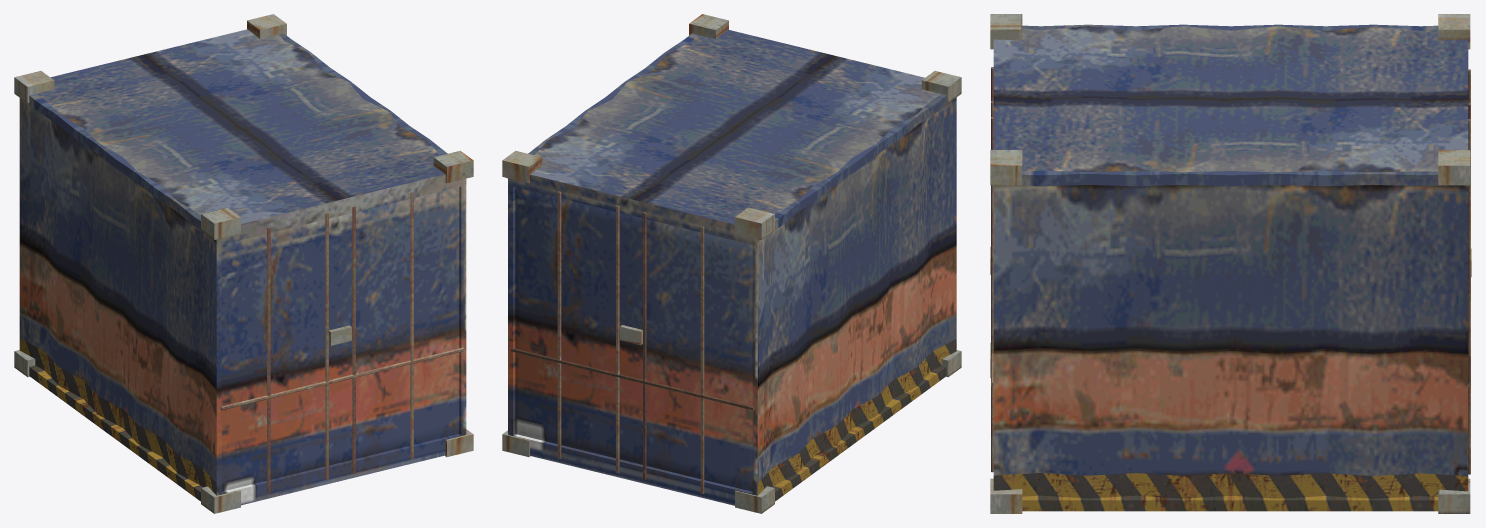
The model's file is ContainerShort2_SM.fbx.
3 renders of one model, left to right at view 1: azimuth 30°, elevation 25°; view 2: azimuth 150°, elevation 25°; view 3: azimuth 270°, elevation 25°, orthographic. The views are drawn at different scales.
Visible parts, largest first — view 1: Box005; view 2: Box005; view 3: Box005.
Boxes of the visible parts, bbox=[...] form: Box005: bbox=[14, 14, 473, 513]; Box005: bbox=[502, 14, 961, 513]; Box005: bbox=[990, 14, 1471, 513].
Bounding box in the file's own units: 238 × 255 × 319.
